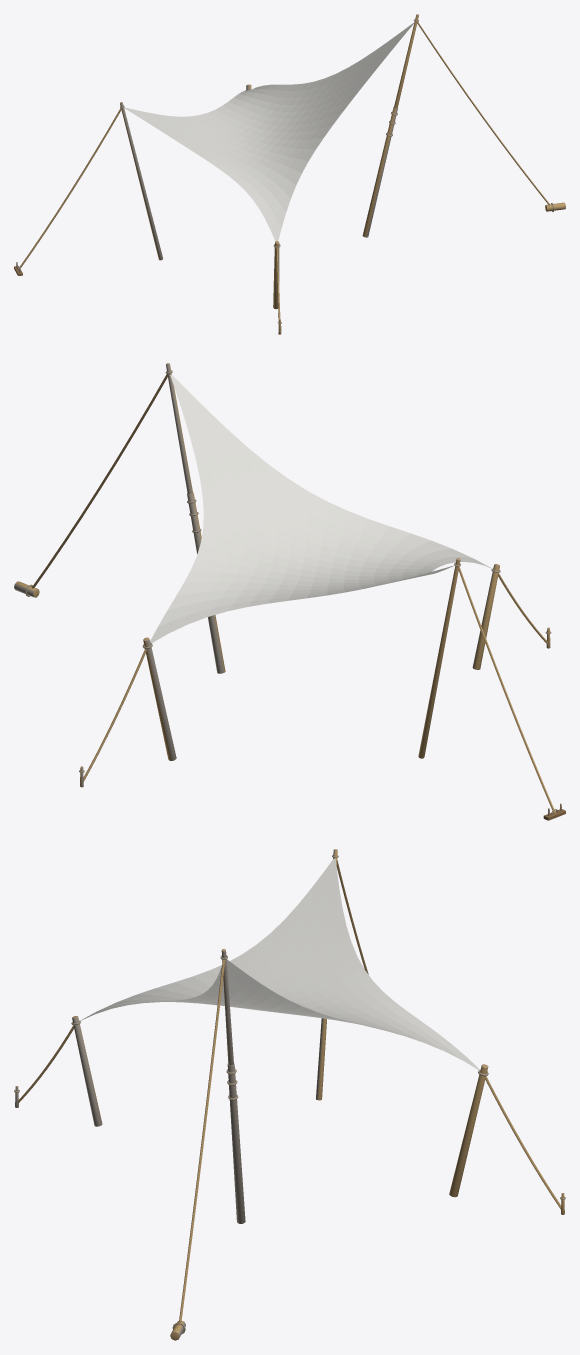
The model's file is nomad_sail_kite.fbx.
The picture shows the model from 3 angles, top to bottom: view 1: azimuth 30°, elevation 25°; view 2: azimuth 150°, elevation 25°; view 3: azimuth 270°, elevation 25°; orthographic projection. The views are drawn at different scales.
Visible parts, largest first — view 1: S08_Canopy, S08_Mast_SailRig_MastLashed, S08_Mast1_SailRig_MastPole, S08_Guy, S08_Guy1; view 2: S08_Canopy, S08_Mast_SailRig_MastLashed, S08_Mast1_SailRig_MastPole, S08_Mast3_SailRig_MastStub, S08_Mast2_SailRig_MastStub, S08_Guy1, S08_Guy; view 3: S08_Canopy, S08_Mast_SailRig_MastLashed, S08_Guy, S08_Mast3_SailRig_MastStub, S08_Mast2_SailRig_MastStub, S08_Mast1_SailRig_MastPole.
Boxes of the visible parts, box(x1,y1,x2,y2) form: S08_Canopy: box(124, 22, 414, 241); S08_Mast_SailRig_MastLashed: box(362, 14, 418, 237); S08_Mast1_SailRig_MastPole: box(120, 102, 162, 260); S08_Guy: box(417, 22, 550, 205); S08_Guy1: box(18, 108, 121, 269); S08_Canopy: box(150, 374, 492, 643); S08_Mast_SailRig_MastLashed: box(165, 363, 225, 673); S08_Mast1_SailRig_MastPole: box(418, 558, 460, 758); S08_Mast3_SailRig_MastStub: box(142, 637, 176, 760); S08_Mast2_SailRig_MastStub: box(472, 564, 500, 669); S08_Guy1: box(457, 566, 555, 813); S08_Guy: box(31, 374, 167, 588); S08_Canopy: box(79, 858, 479, 1070); S08_Mast_SailRig_MastLashed: box(220, 949, 245, 1223); S08_Guy: box(179, 960, 225, 1322); S08_Mast3_SailRig_MastStub: box(449, 1064, 488, 1197); S08_Mast2_SailRig_MastStub: box(71, 1016, 102, 1126); S08_Mast1_SailRig_MastPole: box(316, 849, 338, 1100).
Bounding box in the file's own units: 950 × 409 × 671.
